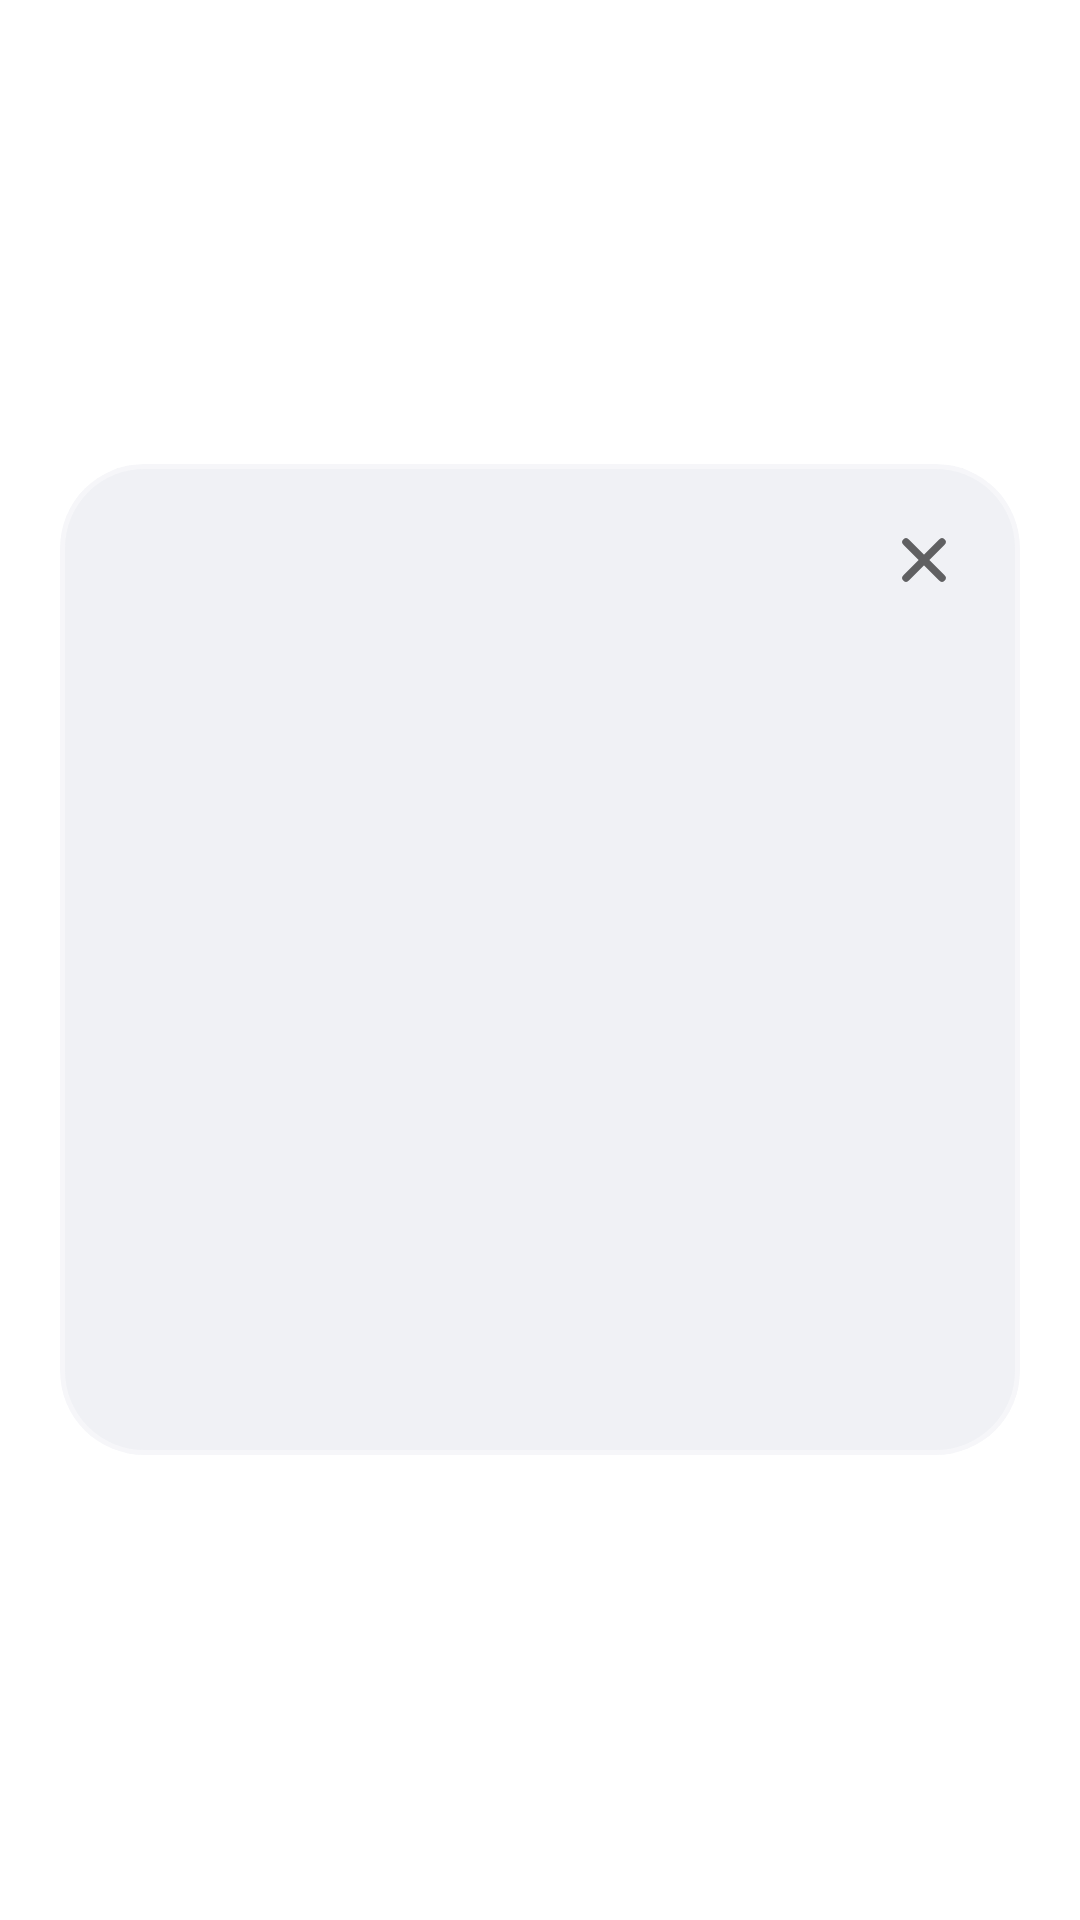

Screen size 1080px×1920px. Icon name, then its box in pixels as (x1, y1, x2, y2):
Tutup Kompas: (902, 538, 946, 582)
